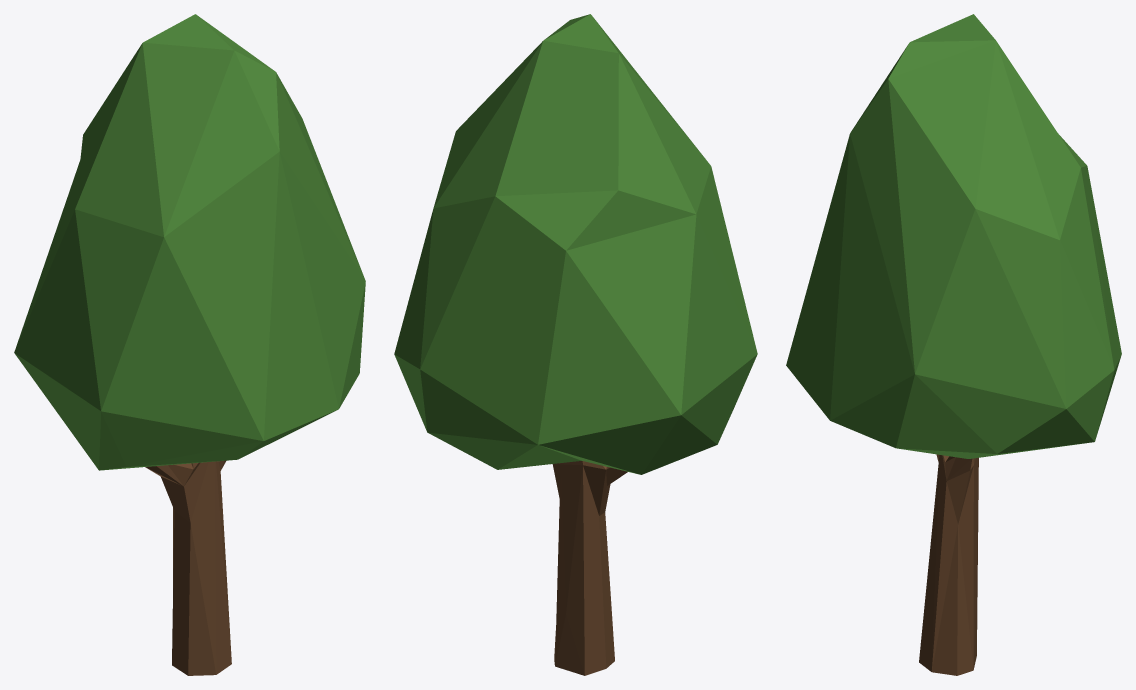
The model's file is shaped-tree-oval.glb.
3 renders of one model, left to right at view 1: azimuth 30°, elevation 25°; view 2: azimuth 150°, elevation 25°; view 3: azimuth 270°, elevation 25°, orthographic.
Visible parts, largest first — view 1: leaves_Sphere, trunk_Cube; view 2: leaves_Sphere, trunk_Cube; view 3: leaves_Sphere, trunk_Cube.
Boxes of the visible parts, box(x1,y1,x2,y2) form: leaves_Sphere: box(14, 14, 365, 470); trunk_Cube: box(145, 460, 231, 675); leaves_Sphere: box(394, 14, 757, 474); trunk_Cube: box(552, 461, 627, 675); leaves_Sphere: box(786, 14, 1121, 458); trunk_Cube: box(919, 454, 978, 675).
Size of the model in its own units: 4.07 by 8.47 by 4.08.
